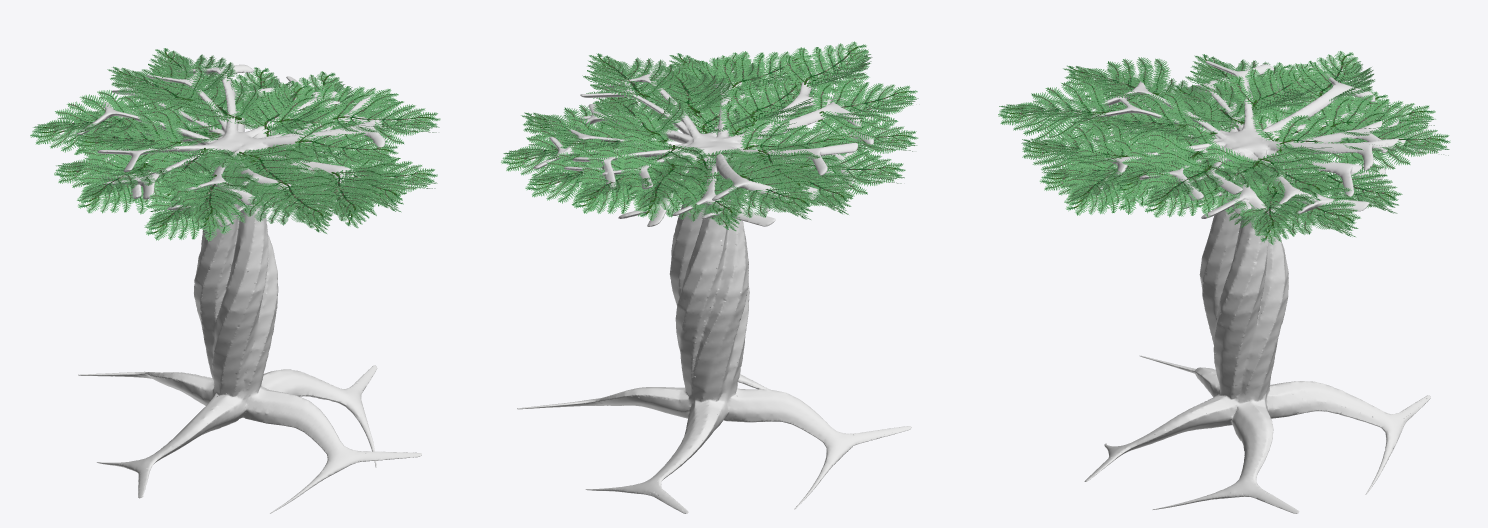
The model's file is CarboTreeFern.fbx.
3 renders of one model, left to right at view 1: azimuth 30°, elevation 25°; view 2: azimuth 150°, elevation 25°; view 3: azimuth 270°, elevation 25°, orthographic. The views are drawn at different scales.
Parts seen in each view (by area): view 1: Plane, Plane.035, Plane.103, Plane.039, Plane.077, Plane.061, Plane.036, Plane.104, Plane.066, Plane.091, Plane.099, Plane.085 (+50 smaller); view 2: Plane, Plane.091, Plane.092, Plane.103, Plane.063, Plane.095, Plane.099, Plane.009, Plane.104, Plane.079, Plane.017, Plane.035 (+51 smaller); view 3: Plane, Plane.101, Plane.102, Plane.033, Plane.011, Plane.067, Plane.063, Plane.034, Plane.012, Plane.015, Plane.041, Plane.007 (+44 smaller).
Part boxes in pixels (x1=…): Plane: x1=60, y1=64, x2=421, y2=513; Plane.035: x1=333, y1=93, x2=440, y2=143; Plane.103: x1=248, y1=174, x2=340, y2=220; Plane.039: x1=293, y1=119, x2=398, y2=167; Plane.077: x1=77, y1=145, x2=162, y2=214; Plane.061: x1=30, y1=90, x2=135, y2=155; Plane.036: x1=329, y1=93, x2=436, y2=155; Plane.104: x1=244, y1=172, x2=333, y2=225; Plane.066: x1=75, y1=116, x2=183, y2=168; Plane.091: x1=171, y1=174, x2=258, y2=217; Plane.099: x1=298, y1=168, x2=385, y2=214; Plane.085: x1=144, y1=173, x2=231, y2=241; Plane: x1=517, y1=70, x2=911, y2=513; Plane.091: x1=813, y1=79, x2=917, y2=131; Plane.092: x1=812, y1=79, x2=916, y2=144; Plane.103: x1=779, y1=41, x2=869, y2=94; Plane.063: x1=717, y1=162, x2=816, y2=209; Plane.095: x1=726, y1=75, x2=813, y2=124; Plane.099: x1=717, y1=51, x2=812, y2=100; Plane.009: x1=573, y1=146, x2=653, y2=216; Plane.104: x1=781, y1=46, x2=869, y2=109; Plane.079: x1=799, y1=142, x2=905, y2=190; Plane.017: x1=525, y1=138, x2=623, y2=211; Plane.035: x1=582, y1=53, x2=676, y2=96; Plane: x1=1084, y1=60, x2=1430, y2=513; Plane.101: x1=998, y1=79, x2=1108, y2=150; Plane.102: x1=999, y1=85, x2=1109, y2=140; Plane.033: x1=1143, y1=148, x2=1227, y2=217; Plane.011: x1=1341, y1=110, x2=1450, y2=161; Plane.067: x1=1229, y1=64, x2=1318, y2=116; Plane.063: x1=1283, y1=51, x2=1372, y2=103; Plane.034: x1=1144, y1=154, x2=1233, y2=210; Plane.012: x1=1338, y1=110, x2=1445, y2=173; Plane.015: x1=1246, y1=148, x2=1330, y2=194; Plane.041: x1=1063, y1=146, x2=1147, y2=215; Plane.007: x1=1328, y1=94, x2=1435, y2=142.
Size of the model in its own units: 98.05 by 83.56 by 103.
